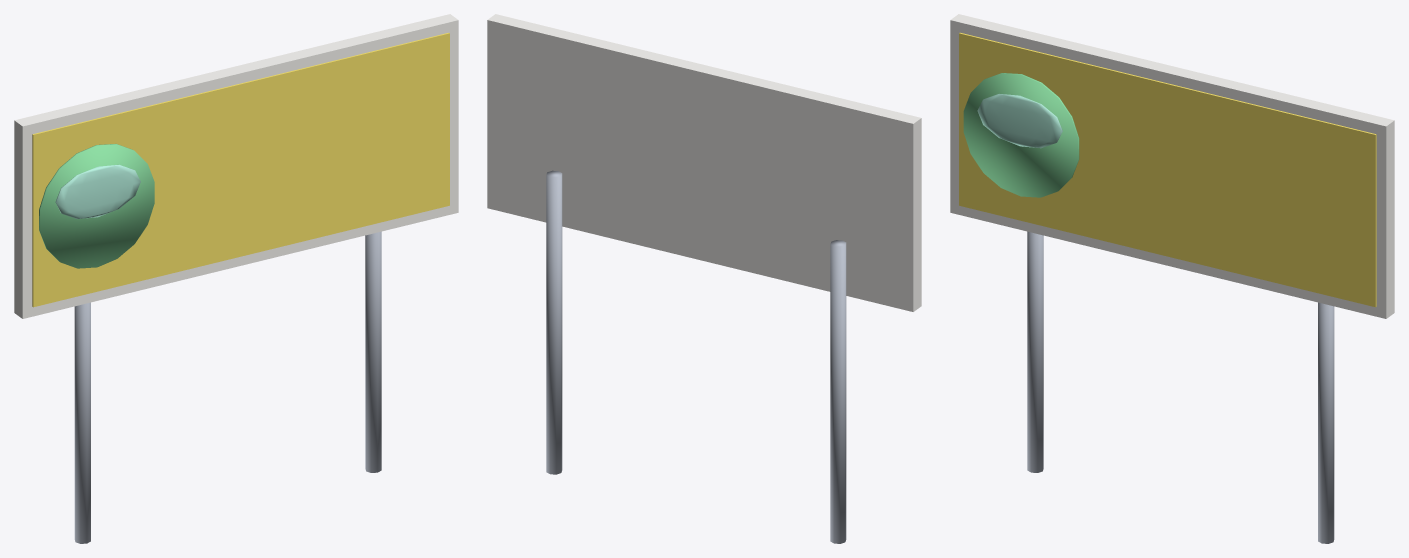
The model's file is Prop_Billboard.fbx.
3 views of the same model, side by side, from view 1: azimuth 30°, elevation 25°; view 2: azimuth 150°, elevation 25°; view 3: azimuth 330°, elevation 25° (orthographic). The views are drawn at different scales.
Parts seen in each view (by area): view 1: Prop_Billboard; view 2: Prop_Billboard; view 3: Prop_Billboard.
Part boxes in pixels (x1,y1,x2,y2): Prop_Billboard: (14, 14, 458, 543); Prop_Billboard: (487, 14, 921, 543); Prop_Billboard: (950, 14, 1394, 543).
Bounding box in the file's own units: 9 × 8.7 × 0.75.
